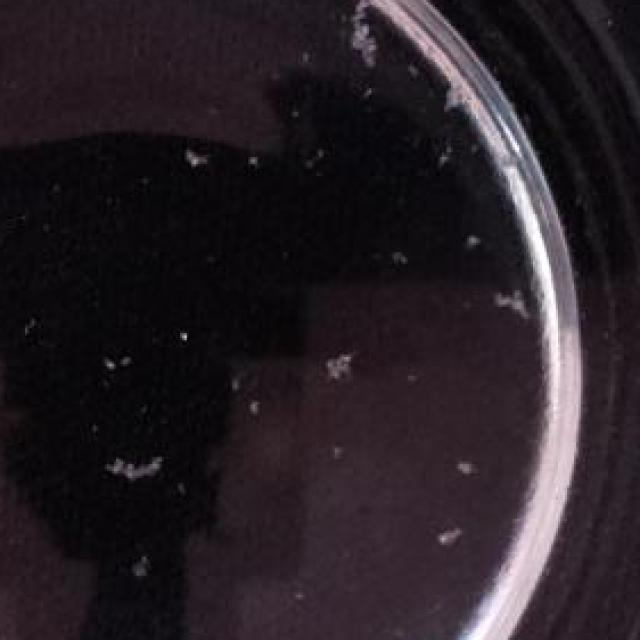Microplastic: (348, 0, 392, 86), (488, 264, 560, 312), (116, 438, 169, 497), (321, 345, 369, 397), (430, 71, 474, 126), (244, 131, 271, 181), (451, 450, 494, 480), (431, 148, 472, 176), (182, 112, 196, 176), (451, 519, 474, 554)
